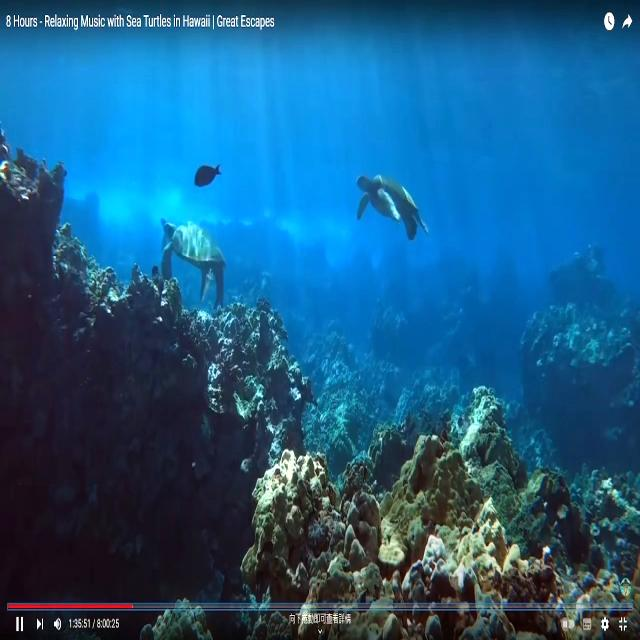Sea turtle: (157, 210, 227, 313), (355, 172, 431, 242)
